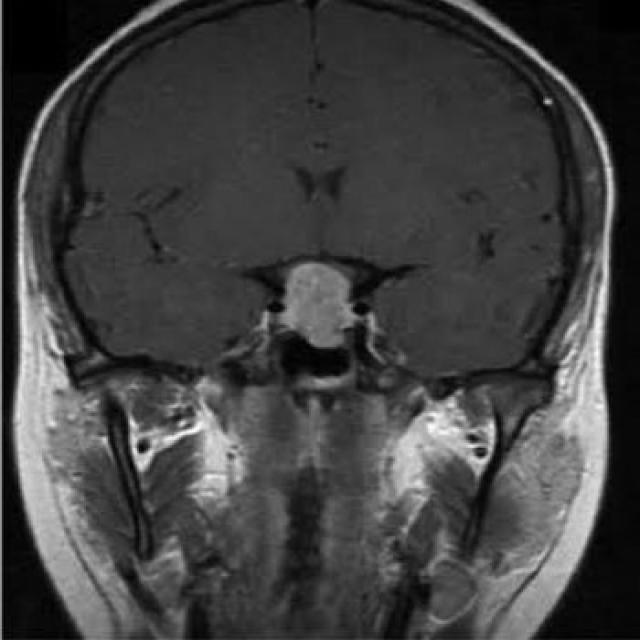brain_tumor: (279, 264, 359, 348)
